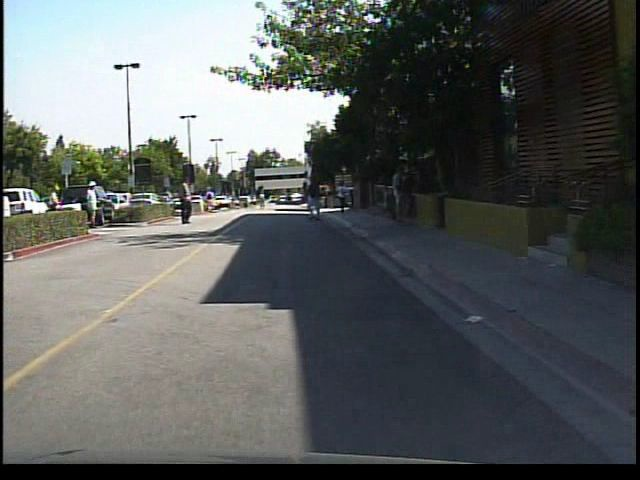person: (388, 156, 414, 231), (303, 167, 330, 224), (175, 172, 201, 230), (47, 181, 68, 235), (406, 166, 426, 222), (89, 176, 106, 230), (335, 175, 351, 217), (203, 187, 219, 216), (256, 188, 271, 212)
